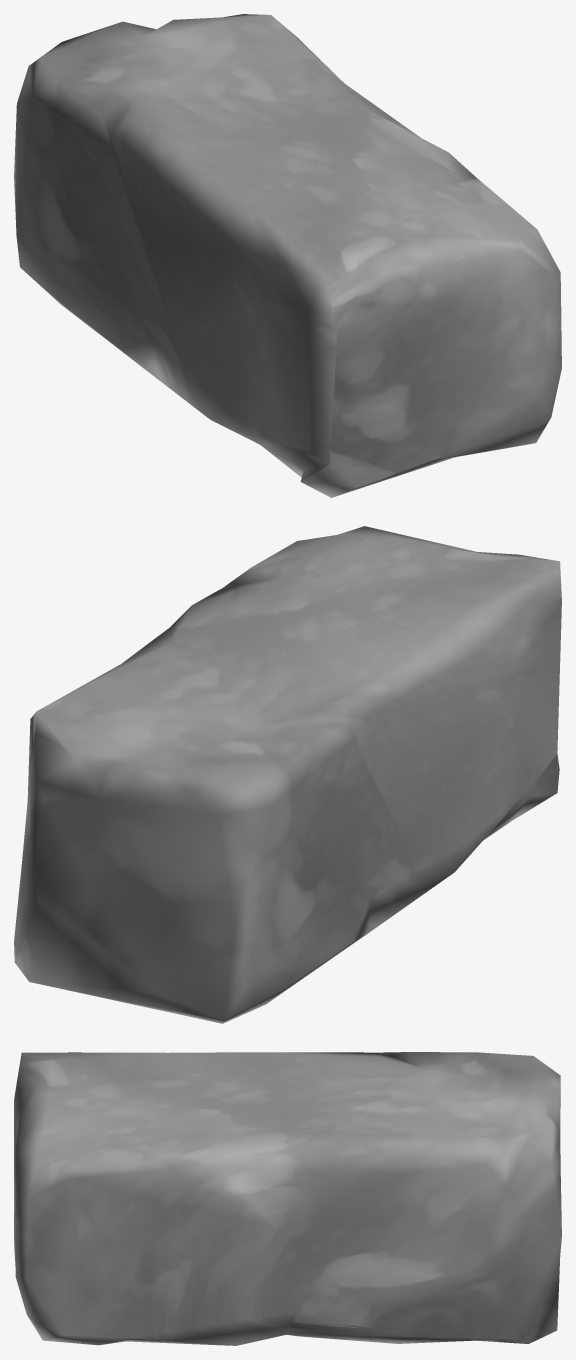
Rendered from SM_StoneBrick_01a.fbx.
3 views of the same model, one above another, from view 1: azimuth 30°, elevation 25°; view 2: azimuth 150°, elevation 25°; view 3: azimuth 270°, elevation 25° (orthographic). The views are drawn at different scales.
Visible parts, largest first — view 1: SM_StoneBrick_01a_LOD0; view 2: SM_StoneBrick_01a_LOD0; view 3: SM_StoneBrick_01a_LOD0.
Boxes of the visible parts, left/top/right/bottom form: SM_StoneBrick_01a_LOD0: left=14, top=14, right=561, bottom=497; SM_StoneBrick_01a_LOD0: left=14, top=526, right=561, bottom=1023; SM_StoneBrick_01a_LOD0: left=14, top=1052, right=561, bottom=1345.
Size of the model in its own units: 46.99 by 102 by 41.99.
